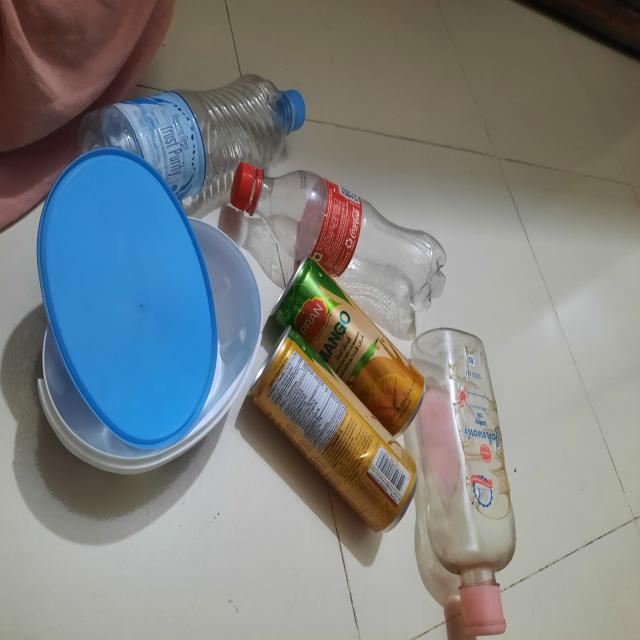Plastics: (44, 66, 274, 494), (418, 326, 512, 640)
can: (266, 262, 420, 530)
